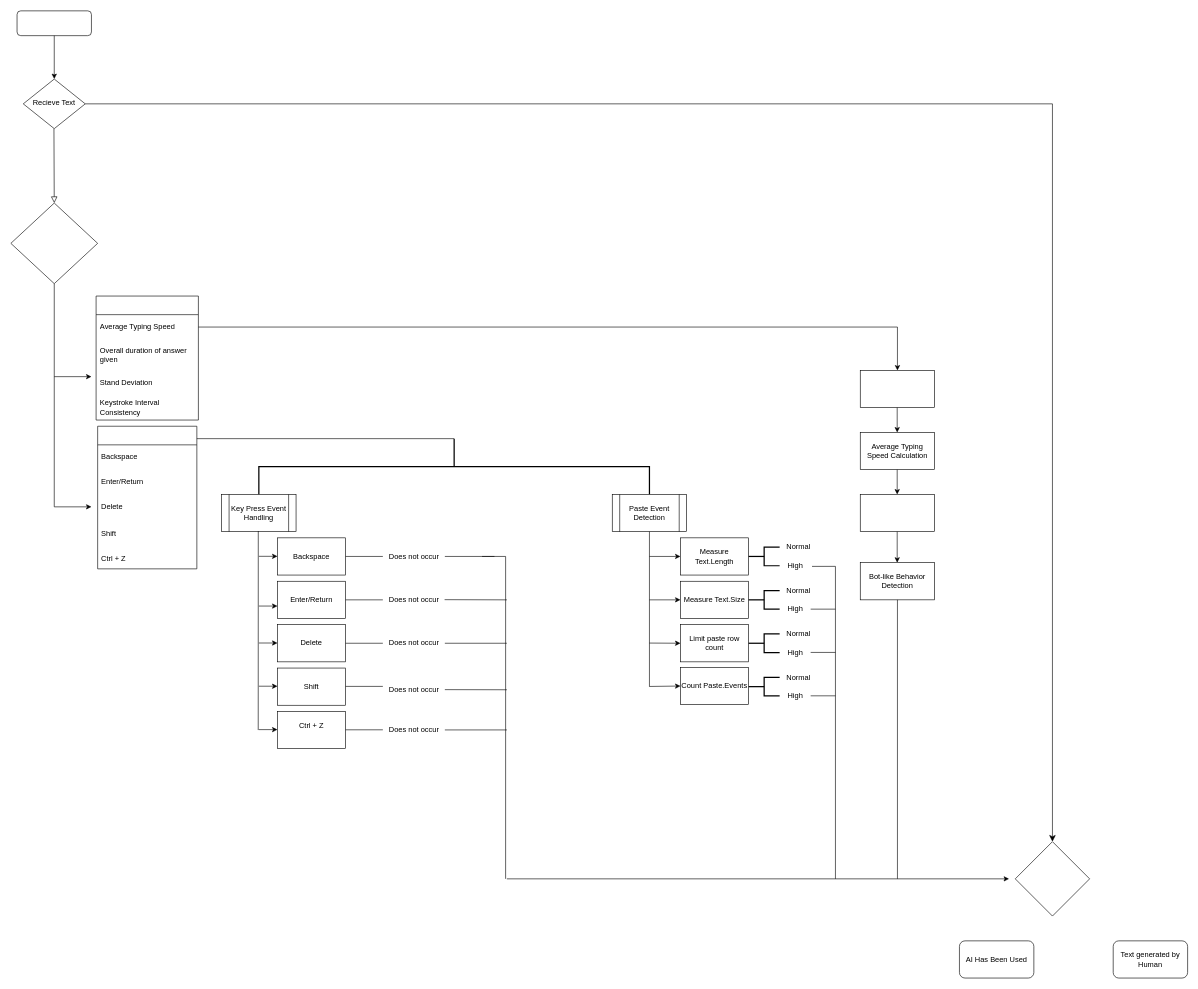
Some shapes in this 1198 by 989 pixel diagram are drawn without their labels. Each missing label, with the box of its shape:
AI Flag Threshold: (1015, 841, 1090, 916)
Analyse for Key Indicators: (10, 202, 98, 284)
Interval-based Key Press Tracking: (860, 370, 935, 408)
Real-time Speed Display: (860, 494, 935, 532)
START: (16, 10, 91, 36)
Text Content Analysis: (97, 426, 197, 569)
Typing Behavior Analysis: (95, 295, 198, 420)
